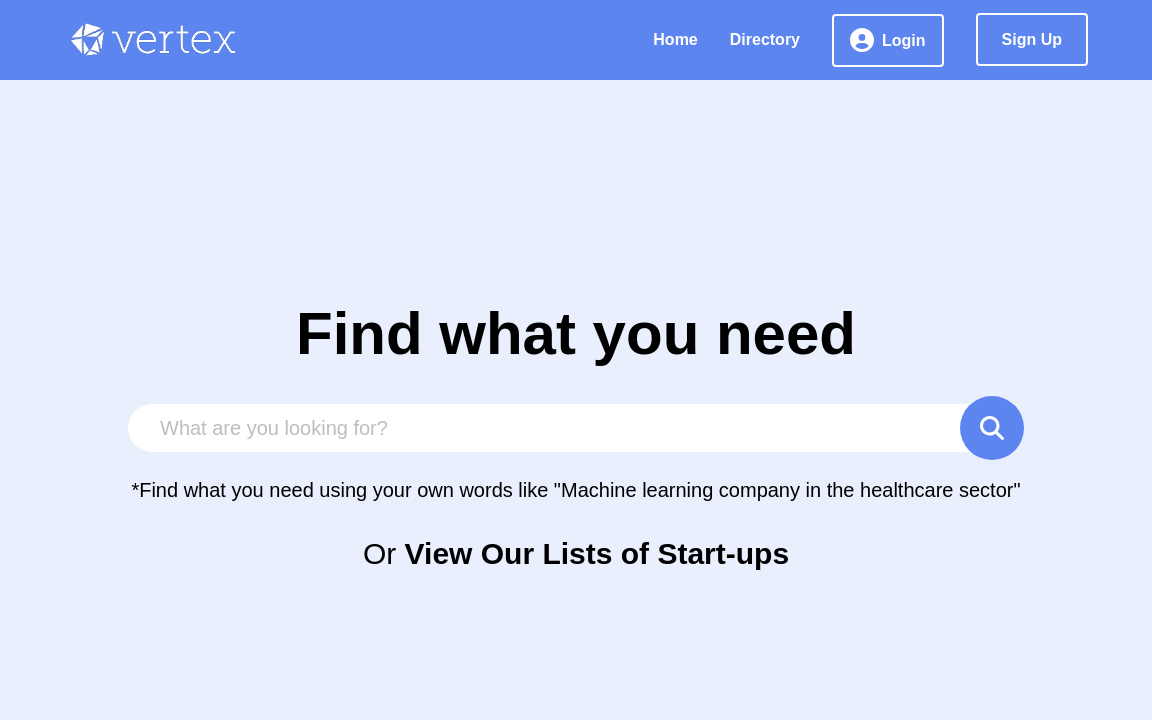
Test case: Testing Routing › Clicking on Sign Up button navigates to SIGN_UP page with sign up fields
Click the link "Sign Up" at (1032, 40), box [976, 13, 1088, 66]
(page scrolled)
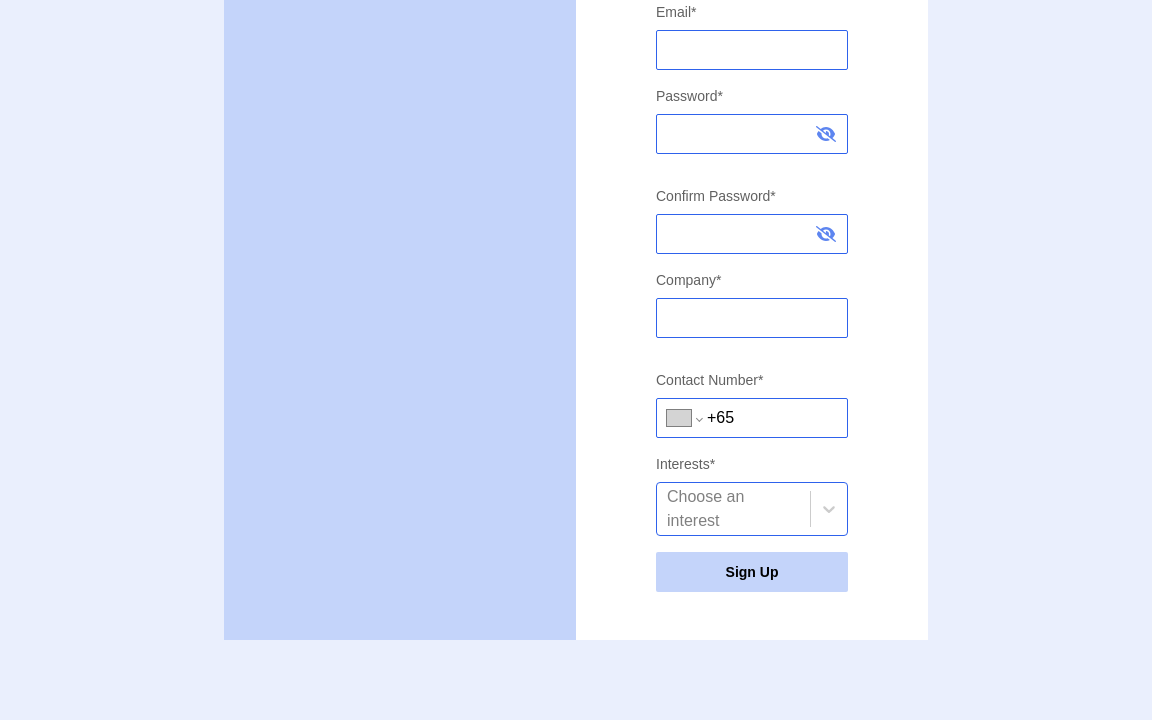
Check: the field labelled "Email*" is shown, box [656, 30, 848, 70]
Check: the password field labelled "Password*" is shown, box [656, 114, 848, 154]
Check: the password field labelled "Confirm Password*" is shown, box [656, 214, 848, 254]
